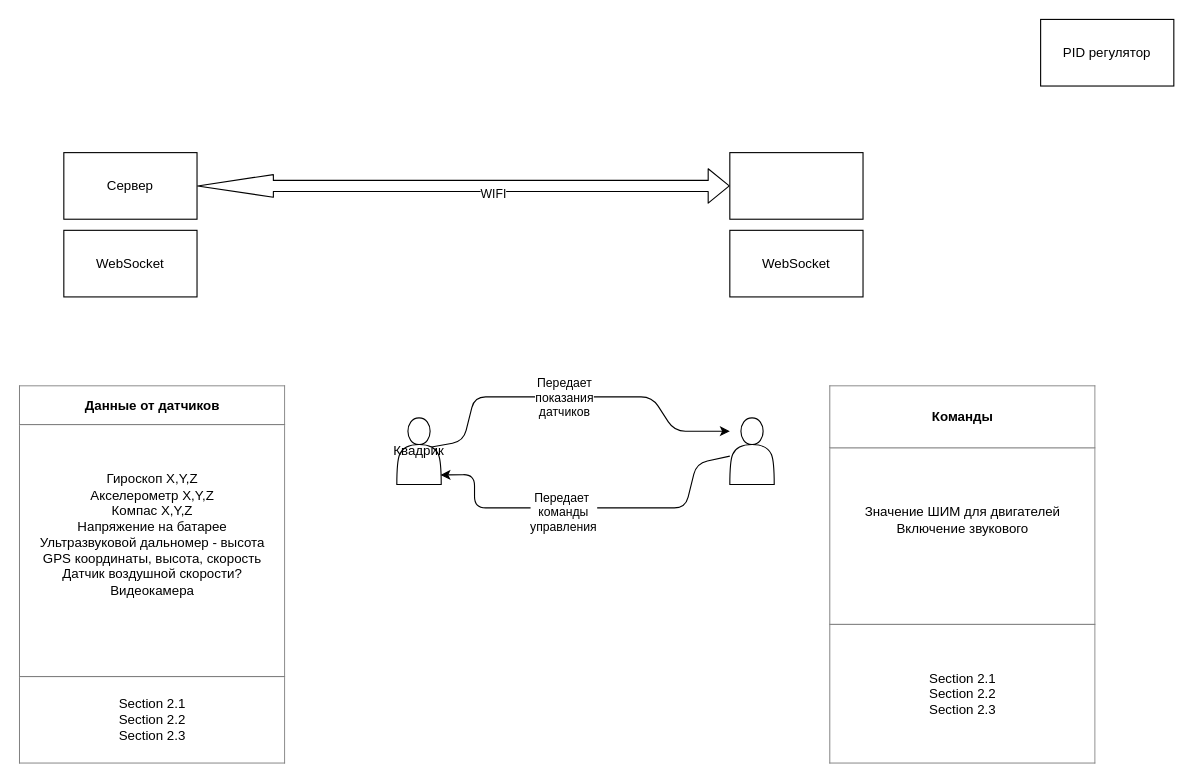
Image size: 1193x784. Some labels were removed from this diagram. Here are the shapes that lost their labels. From the top down, the centre of each, then its label:
point (796, 185): Клиент
point (751, 451): Компьютер
